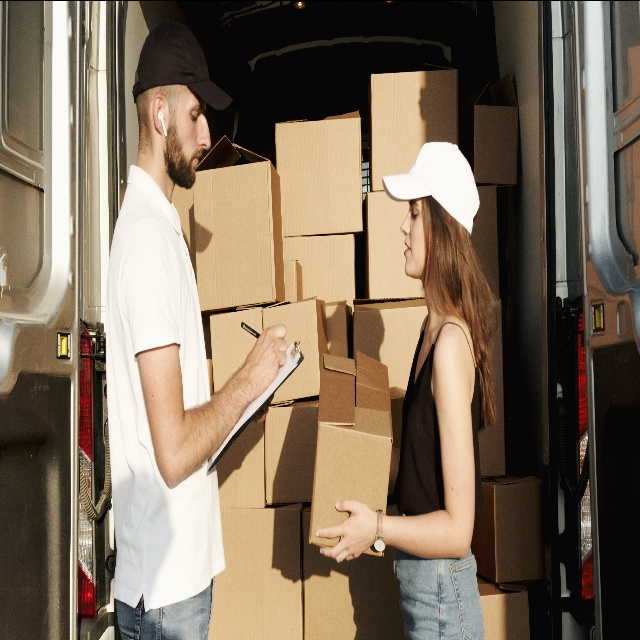Sin_guantes: (315, 500, 376, 564), (245, 323, 287, 393)
